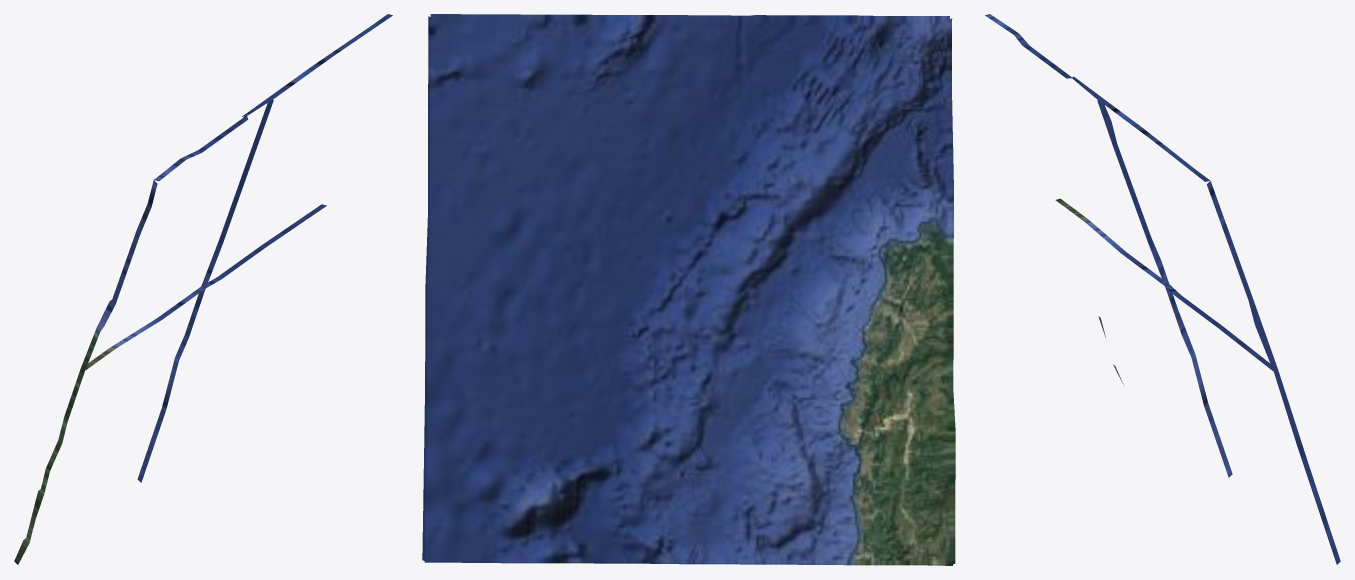
The picture shows the model from 3 angles, left to right: view 1: azimuth 30°, elevation 25°; view 2: azimuth 150°, elevation 25°; view 3: azimuth 270°, elevation 25°; orthographic projection. The views are drawn at different scales.
Size of the model in its own units: 314202 by 300796 by 234207.
1 material, 1 textured.
